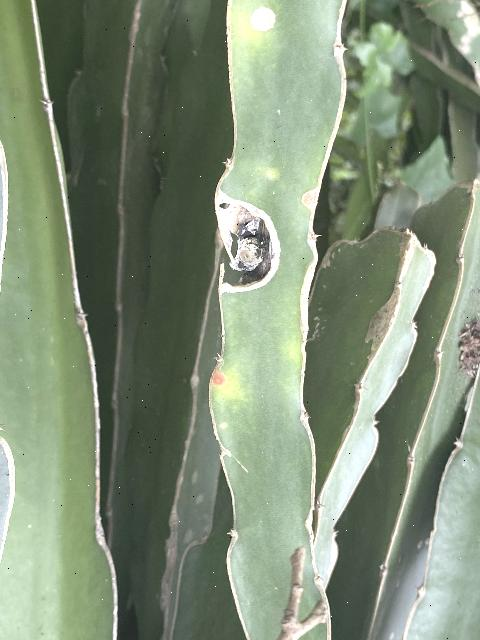stemcanker: (213, 190, 284, 299)
